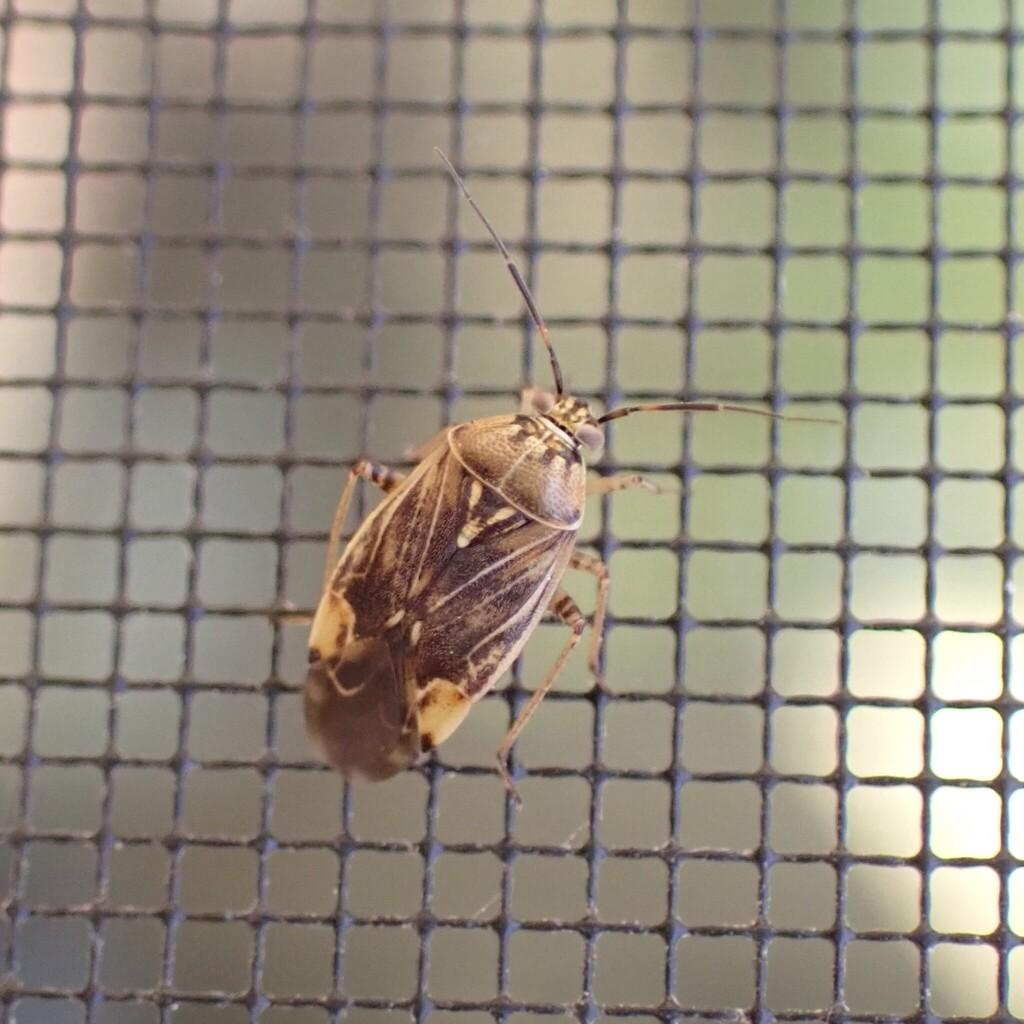plant_bugs: (176, 105, 903, 915)
